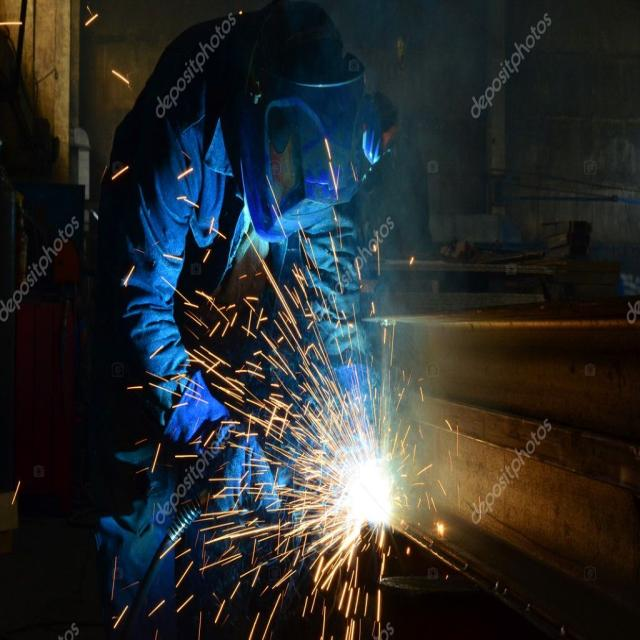welding: (348, 460, 394, 528)
